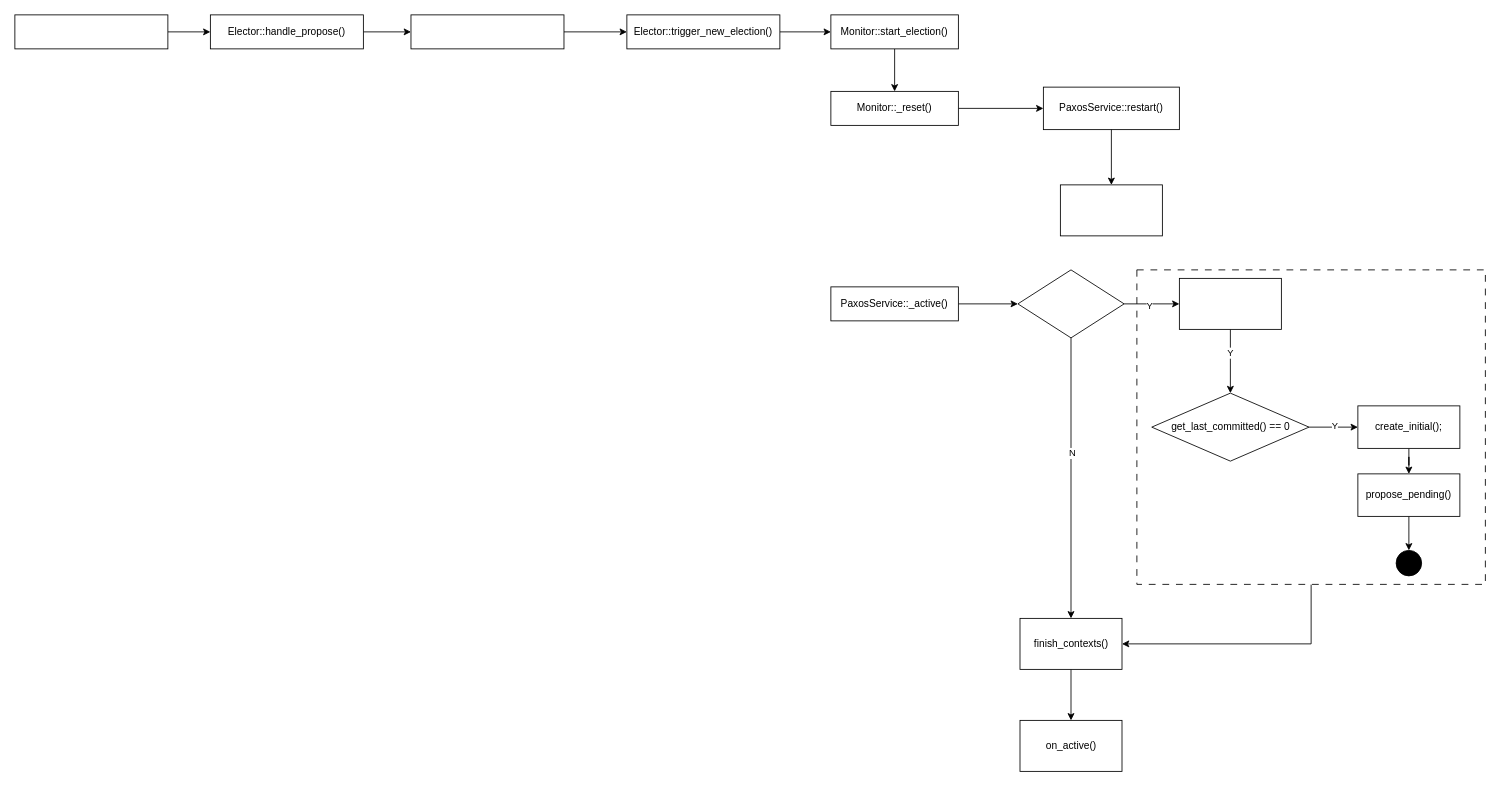
Some shapes in this 1500 by 786 pixel diagram are drawn without their labels. Here are the shapes that lost their labels. From the top down, the box of each, then its label:
(14, 14, 168, 49): Elector::dispatch()
(410, 14, 564, 49): ElectionLogic::receive_propose()
(1060, 184, 1162, 236): 遍历paxos_service 执行restart()
(1017, 269, 1124, 338): mon->is_leader()
(1179, 278, 1281, 329): create_pending()
